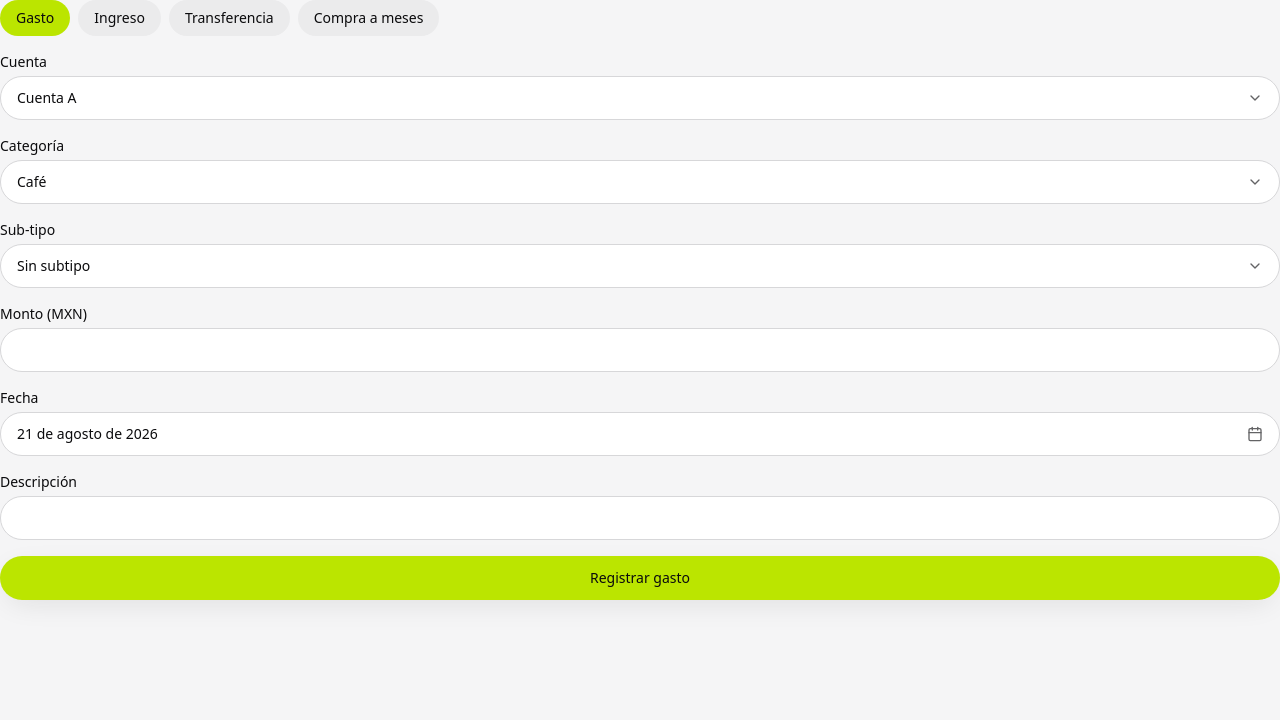
Test case: TransactionForm — over-budget confirmation gate (B-011) › cancelling the confirmation dismisses it without submitting
Type "20" into the number field labelled "Monto (MXN)".
click(640, 350); type("20")  # box top-left (0, 328), bottom-right (1279, 372)
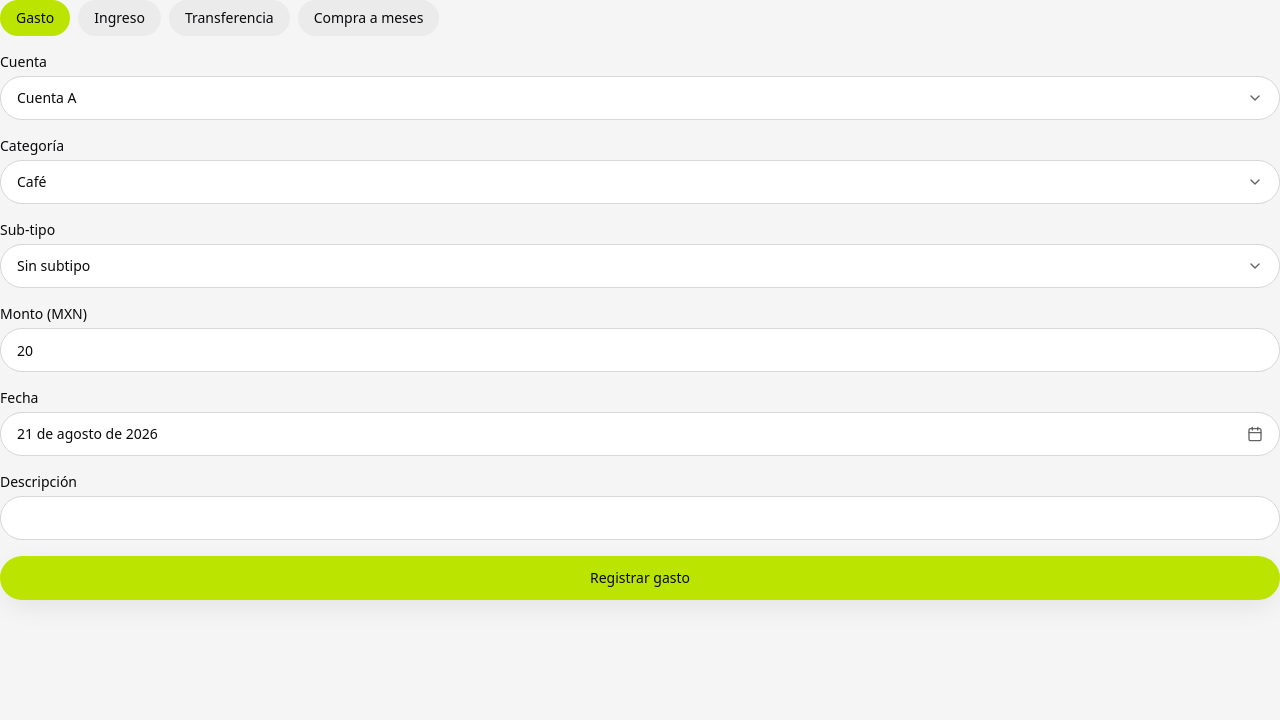
Click the button "Registrar gasto".
click(640, 578)  # box top-left (0, 556), bottom-right (1279, 600)
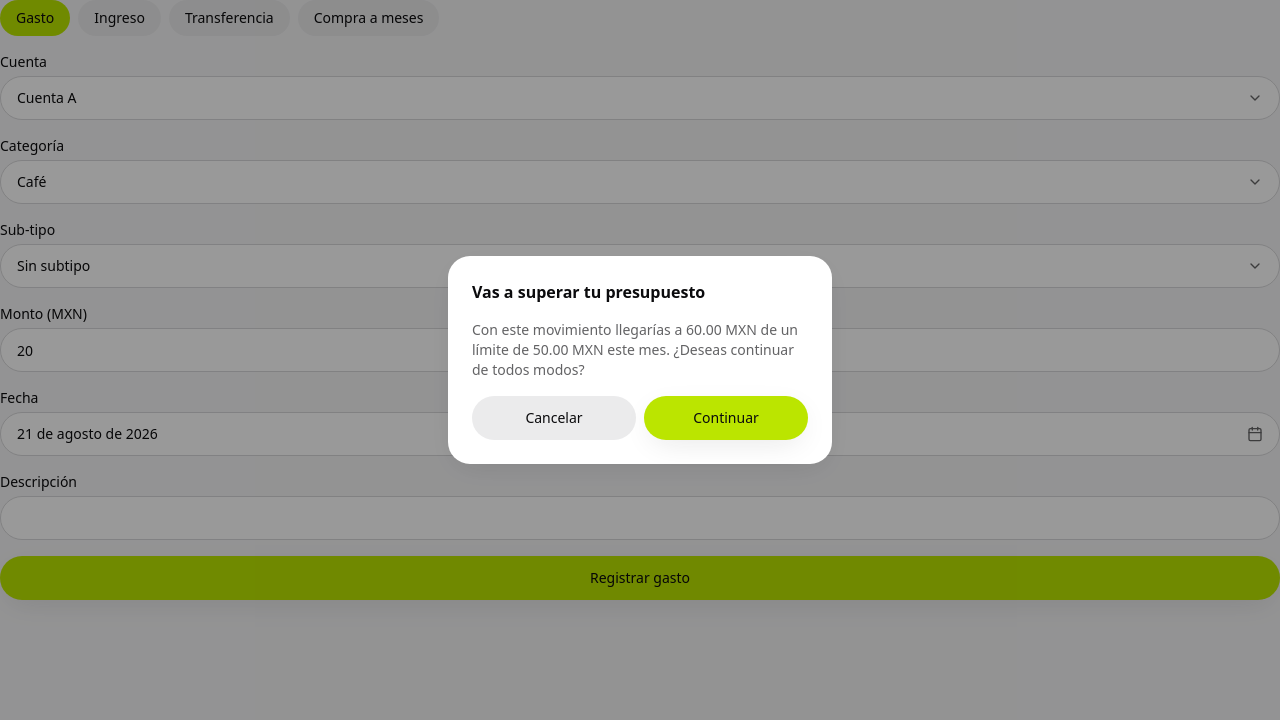
Check: the heading "Vas a superar tu presupuesto" is shown, box top-left (472, 281), bottom-right (705, 303)
Click the button "Cancelar".
click(554, 418)  # box top-left (472, 396), bottom-right (636, 440)
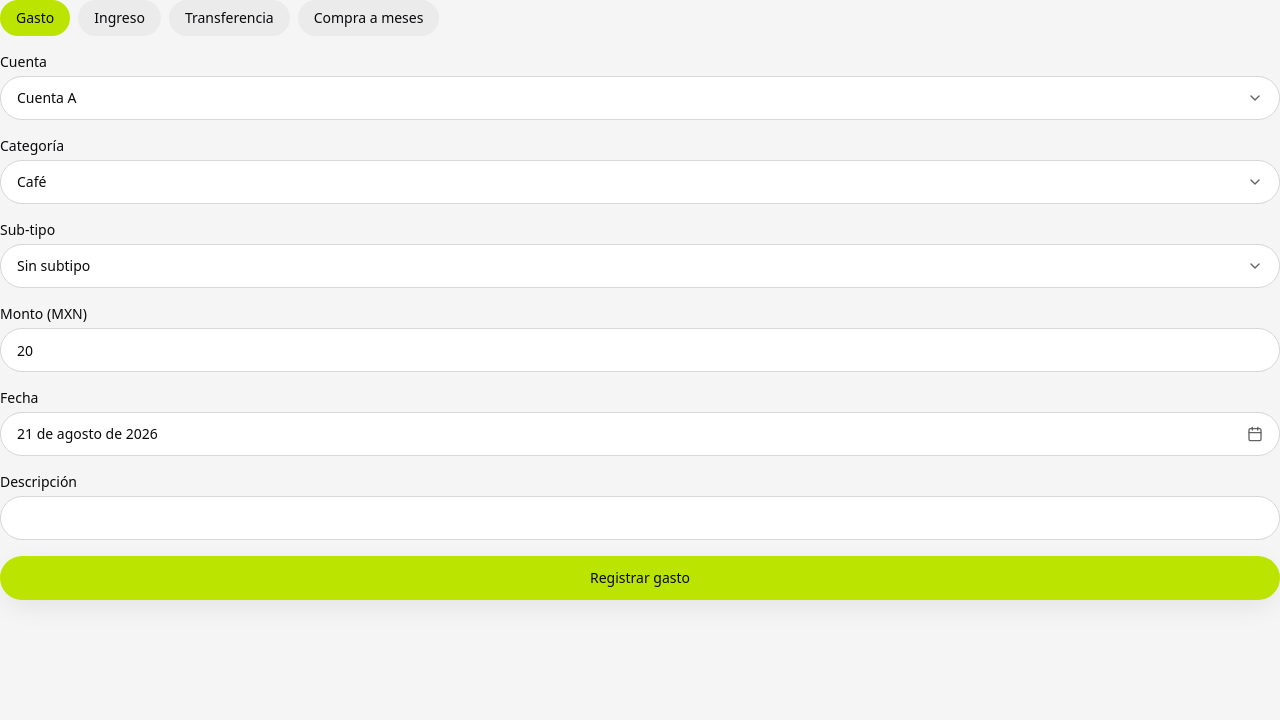
Check: the heading "Vas a superar tu presupuesto" is gone
